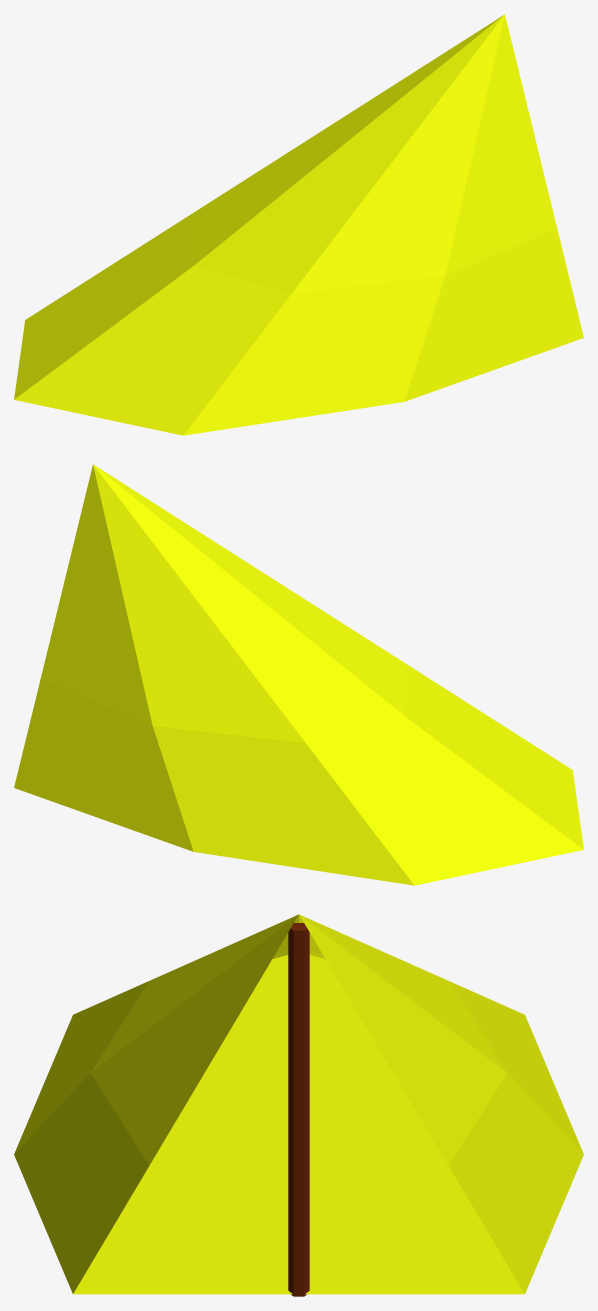
The model's file is tent.obj.
The picture shows the model from 3 angles, top to bottom: view 1: azimuth 30°, elevation 25°; view 2: azimuth 150°, elevation 25°; view 3: azimuth 270°, elevation 25°; orthographic projection. The views are drawn at different scales.
Visible parts, largest first — view 1: Cylinder_Cylinder.001; view 2: Cylinder_Cylinder.001; view 3: Cylinder_Cylinder.001.
Boxes of the visible parts, box(x1,y1,x2,y2) form: Cylinder_Cylinder.001: box(14, 14, 583, 435); Cylinder_Cylinder.001: box(14, 464, 583, 885); Cylinder_Cylinder.001: box(14, 914, 583, 1296).
Bounding box in the file's own units: 10.07 × 5.23 × 7.08.
1 material, 1 textured.
